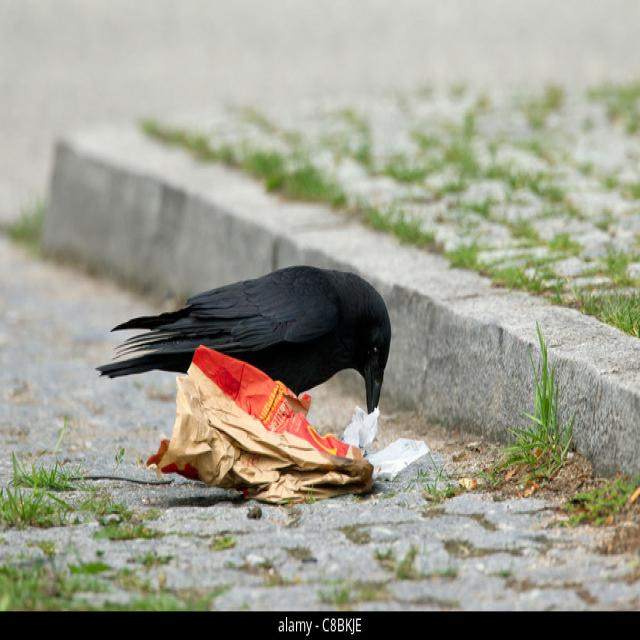cardboard: (196, 352, 370, 487)
paper: (196, 348, 290, 514)
plastic: (348, 410, 408, 461)
